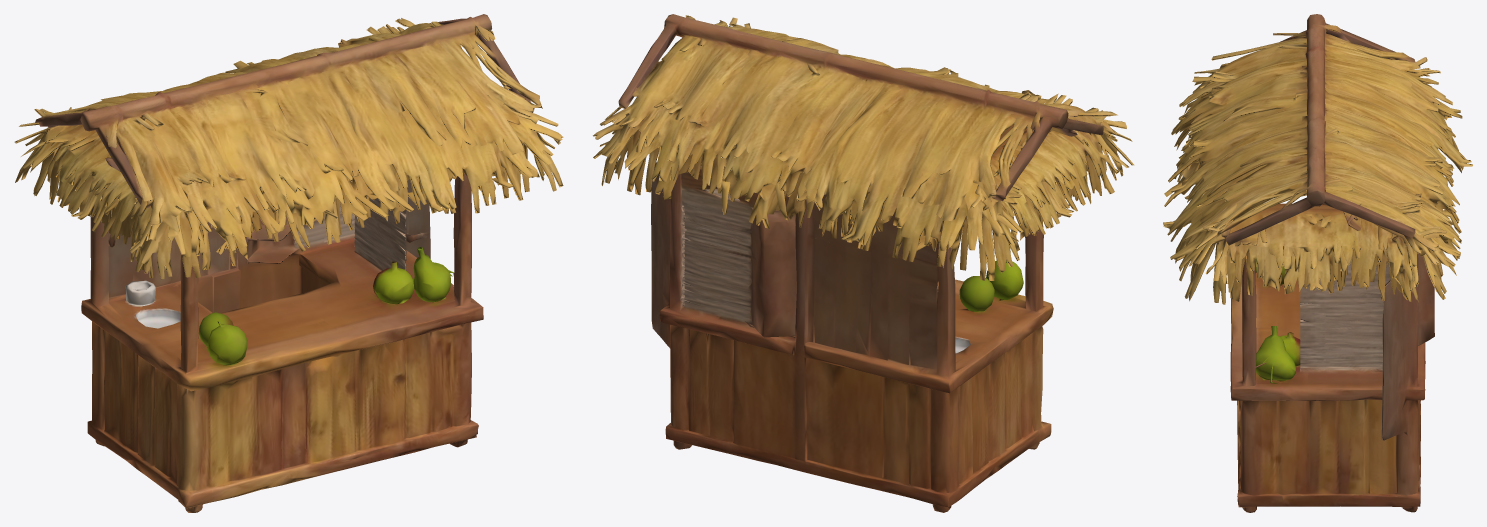
The model's file is praia_quiosque.glb.
The picture shows the model from 3 angles, left to right: view 1: azimuth 30°, elevation 25°; view 2: azimuth 150°, elevation 25°; view 3: azimuth 270°, elevation 25°; orthographic projection. The views are drawn at different scales.
Parts seen in each view (by area): view 1: tripo_node_ce3e65f9-8d0e-4ea9-b21a-ab6ada660fb1; view 2: tripo_node_ce3e65f9-8d0e-4ea9-b21a-ab6ada660fb1; view 3: tripo_node_ce3e65f9-8d0e-4ea9-b21a-ab6ada660fb1.
Part boxes in pixels (bbox=[...]): tripo_node_ce3e65f9-8d0e-4ea9-b21a-ab6ada660fb1: bbox=[14, 14, 563, 512]; tripo_node_ce3e65f9-8d0e-4ea9-b21a-ab6ada660fb1: bbox=[593, 14, 1134, 512]; tripo_node_ce3e65f9-8d0e-4ea9-b21a-ab6ada660fb1: bbox=[1163, 14, 1472, 512].
Size of the model in its own units: 0.979 by 0.8519 by 0.6805.
Materials: 1 (1 with a texture image).
